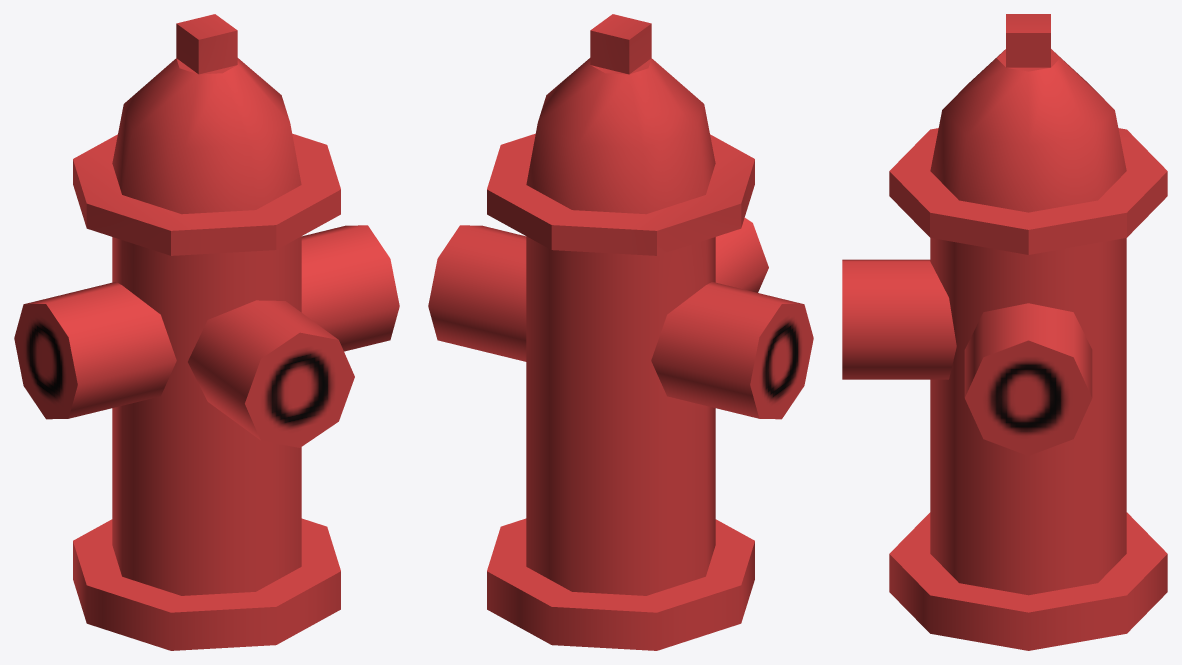
Rendered from FireHydrant.fbx.
The picture shows the model from 3 angles, left to right: view 1: azimuth 30°, elevation 25°; view 2: azimuth 150°, elevation 25°; view 3: azimuth 270°, elevation 25°; orthographic projection.
Parts seen in each view (by area): view 1: FireHydrant; view 2: FireHydrant; view 3: FireHydrant.
Part boxes in pixels (x1,y1,x2,y2): FireHydrant: (14,14,399,650); FireHydrant: (428,14,813,650); FireHydrant: (842,14,1167,650).
Bounding box in the file's own units: 152 × 256 × 133.
Materials: 1 (1 with a texture image).
